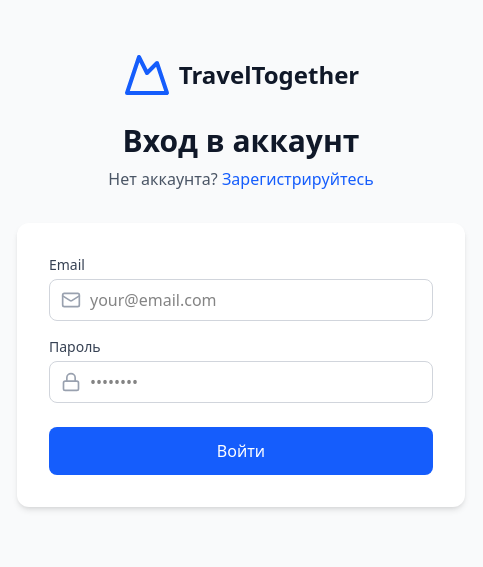
it: Login › shows error on failed login
The image size is (483, 567).
Type "test@test.com" into the field labelled "Email".
click(241, 300); type("test@test.com")  # box [49,279,433,321]
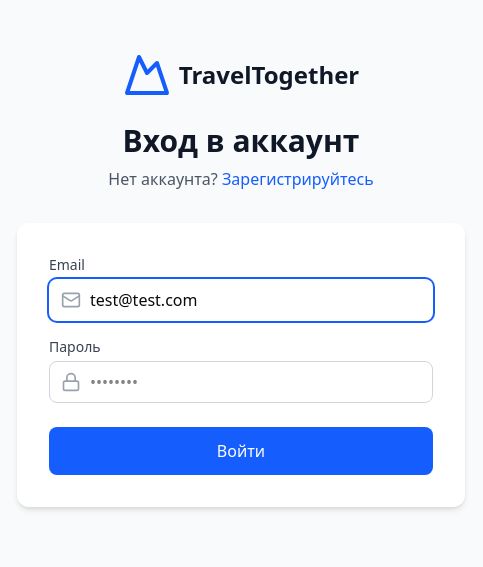
Type "wrong" into the password field labelled "Пароль".
click(241, 382); type("wrong")  # box [49,361,433,403]
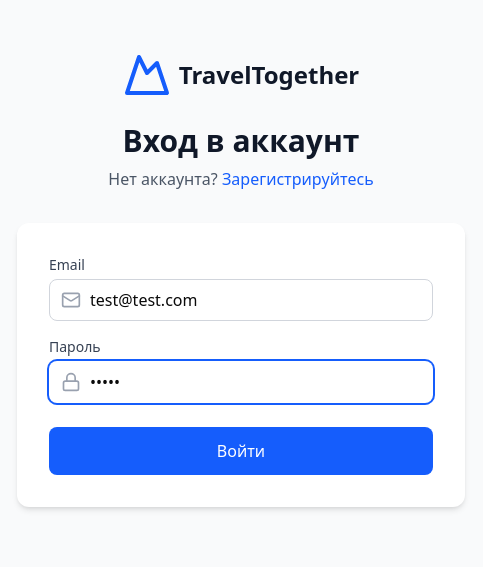
Click the button "Войти".
click(241, 451)  # box [49,427,433,475]
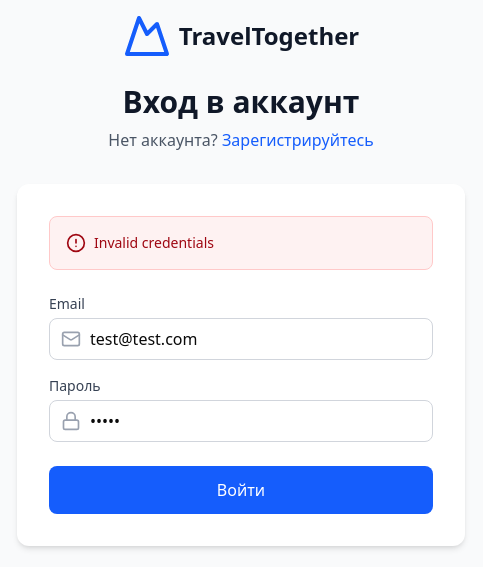
Result: the text "Invalid credentials" is shown at [94,233,214,253]
